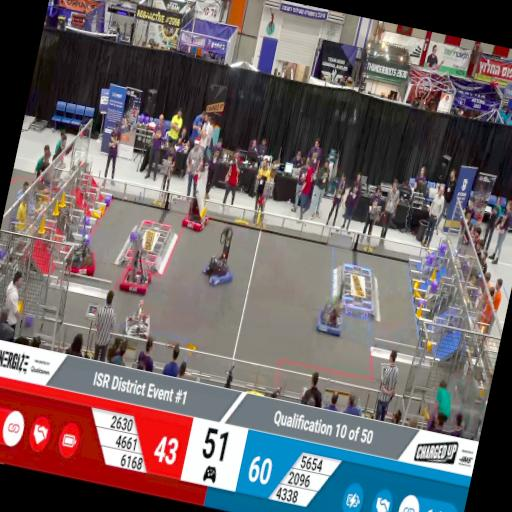robot: (198, 228, 242, 290), (116, 296, 160, 350), (117, 245, 156, 300), (64, 236, 102, 282), (314, 292, 350, 336), (178, 192, 213, 234)
